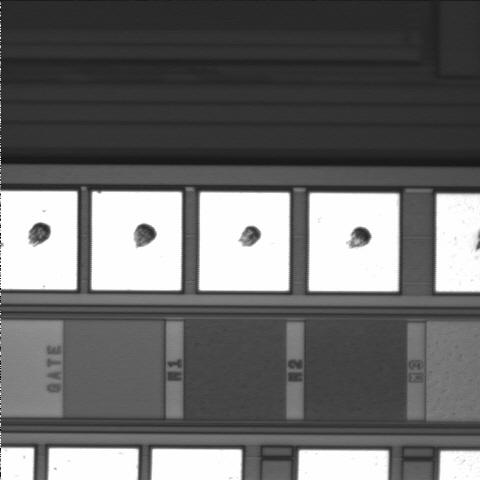pad: (199, 192, 290, 291), (92, 192, 182, 290), (309, 193, 399, 291)
